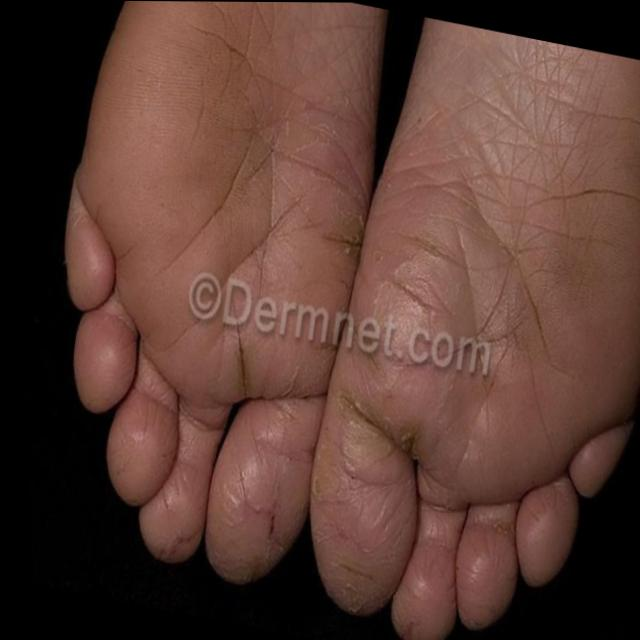liquenificacion 1: (167, 1, 616, 387)
